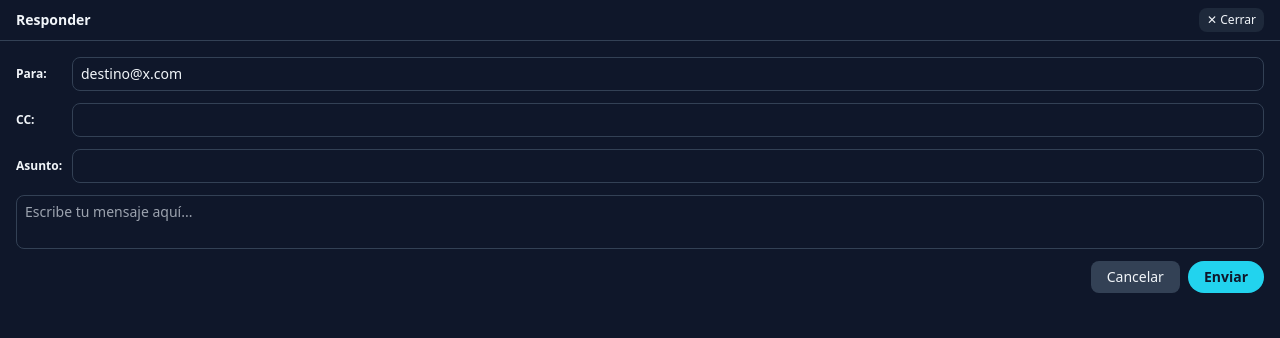
Scenario: ComposePage — redacción y envío › un ok:false del backend muestra el error
In the field next to "Asunto:": (668, 166) [72,149,1264,183], type "Re:"
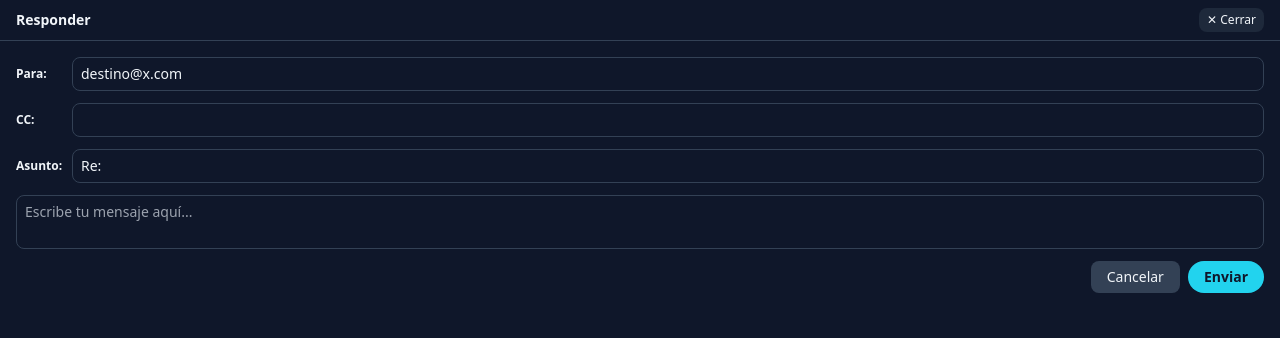
Click the button "Enviar": (1226, 277) [1188,261,1264,293]
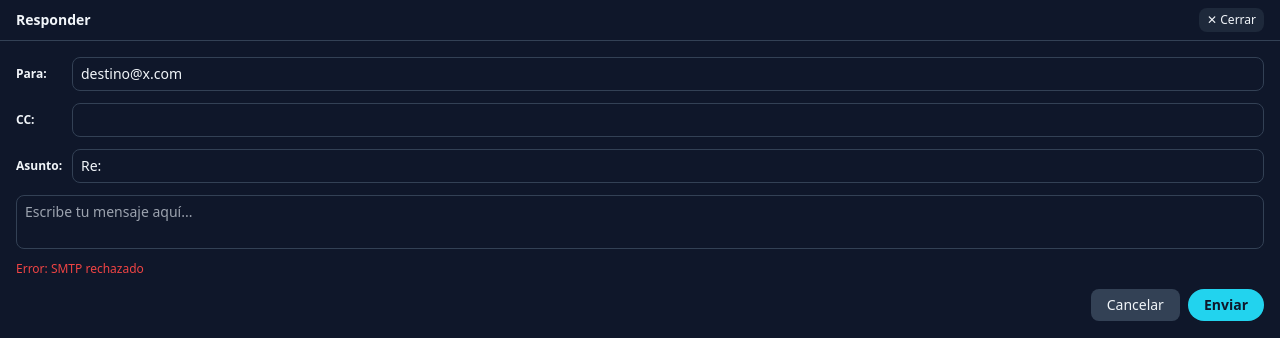
expect the text "Error: SMTP rechazado" is shown: met, box [16,260,144,277]
